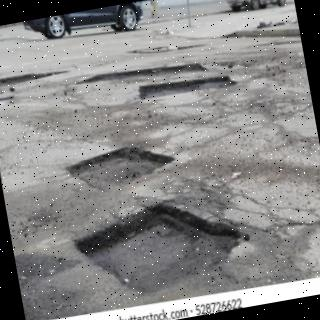pothole: (73, 204, 250, 293), (66, 147, 175, 182), (76, 64, 210, 84), (140, 76, 232, 100), (0, 71, 69, 87), (225, 28, 301, 39)
